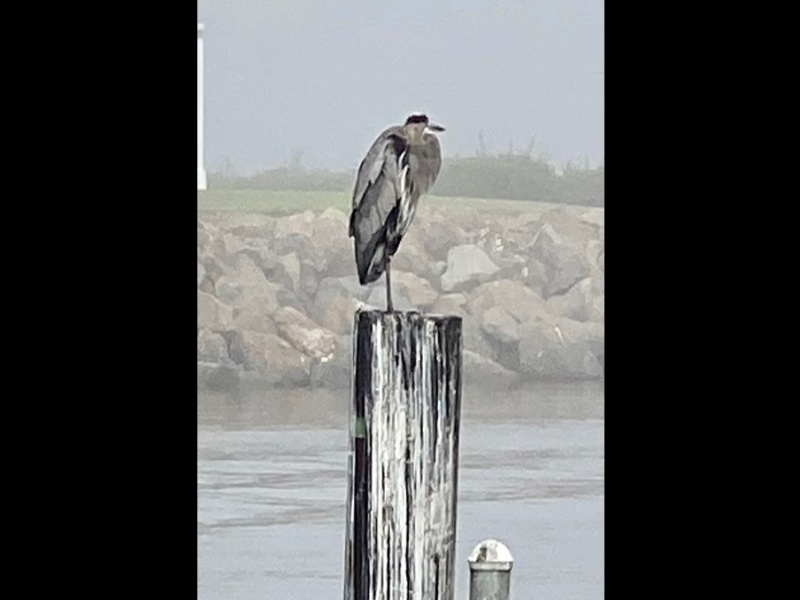heron: (344, 108, 446, 305)
